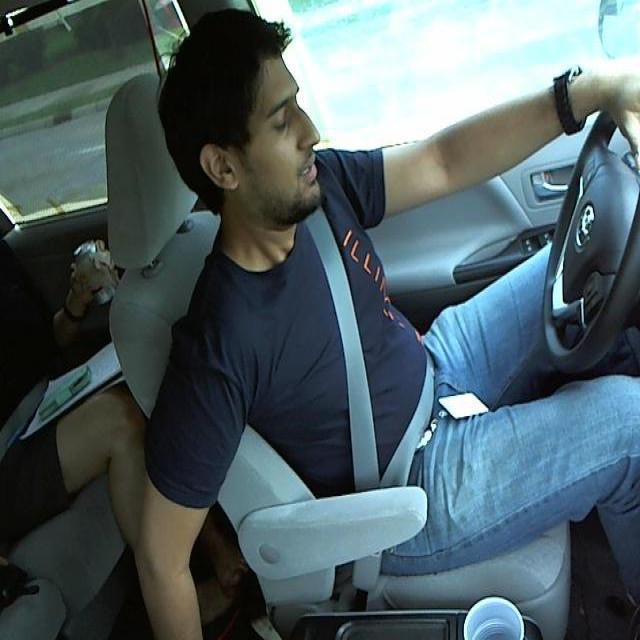seatbelt: (310, 231, 437, 484)
